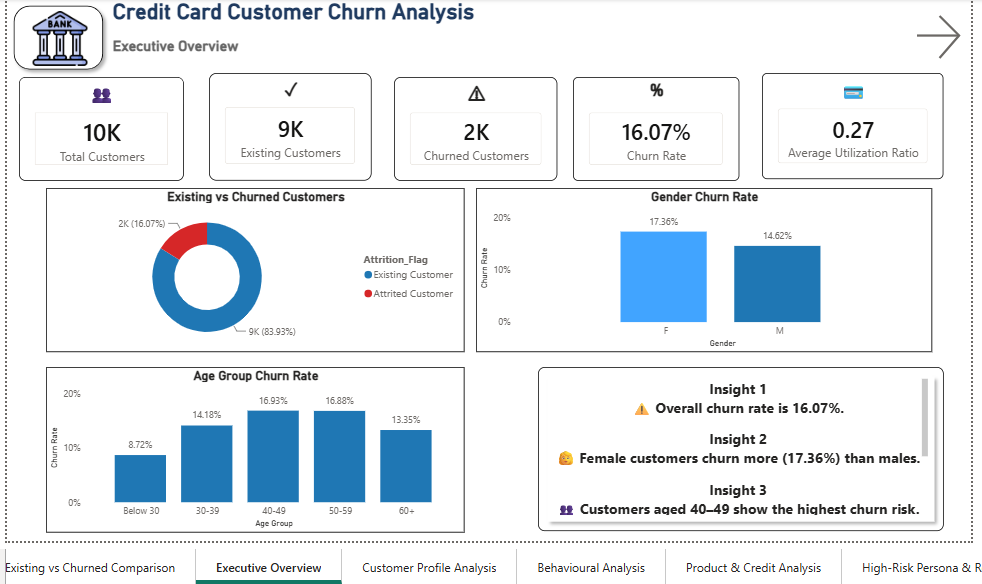

What the dashboard file says about the page in this screenshot:
{"tool":"powerbi","page":{"name":"Executive Overview","canvas":[1280,720],"ordinal":6},"visuals":[{"type":"shape","box":[0,0,136.7,102.5],"z":0},{"type":"image","box":[15.8,15.8,109.2,72.5],"z":1000},{"type":"textbox","title":"Credit Card Customer Churn Analysis","box":[136.1,0,806.3,36.6],"z":2000},{"type":"textbox","title":"Executive Overview","box":[134.9,50.8,390.5,25.4],"z":3000},{"type":"cardVisual","title":"✓","fields":{"Data":["BankChurners.Existing Customers"]},"box":[268.3,98.4,215.9,142.9],"z":4000},{"type":"cardVisual","title":"⚠","fields":{"Data":["BankChurners.Churned Customers"]},"box":[514.3,103.2,217.5,138.1],"z":5000},{"type":"cardVisual","title":"%","fields":{"Data":["BankChurners.Churn Rate"]},"box":[752.4,103.2,220.6,138.1],"z":6000},{"type":"cardVisual","title":"💳","fields":{"Data":["Avg(BankChurners.Avg_Utilization_Ratio)"]},"box":[1003.2,98.4,241.3,141.3],"z":7000},{"type":"cardVisual","title":"👥","fields":{"Data":["BankChurners.Total Customers"]},"box":[15.9,103.2,219,138.1],"z":8000},{"type":"donutChart","title":"Existing vs Churned Customers","fields":{"Category":["BankChurners.Attrition_Flag"],"Y":["BankChurners.Total Customers"]},"box":[51.5,251.5,555.9,218.1],"z":9000},{"type":"clusteredColumnChart","title":"Gender Churn Rate","fields":{"Category":["BankChurners.Gender"],"Y":["BankChurners.Churn Rate"]},"box":[622.6,251.5,605.9,218.1],"z":10000},{"type":"clusteredColumnChart","title":"Age Group Churn Rate","fields":{"Y":["BankChurners.Churn Rate"],"Category":["BankChurners.Age Group"]},"box":[51.5,489.3,555.9,219.6],"z":11000},{"type":"shape","box":[705.9,489.3,539.3,218.1],"z":12000},{"type":"textbox","box":[721,499.9,507.5,190.9],"z":13000},{"type":"actionButton","box":[1200.7,15,79.3,71.9],"z":14000}]}

Visuals, with their boxes in screenshot pixels (x1, y1, x2, y2):
shape: 3:0:106:72
image: 15:7:97:62
"Credit Card Customer Churn Analysis" textbox: 106:0:716:23
"Executive Overview" textbox: 105:33:400:53
"✓" cardVisual: 206:69:369:177
"⚠" cardVisual: 392:73:556:177
"%" cardVisual: 572:73:739:177
"💳" cardVisual: 762:69:944:176
"👥" cardVisual: 15:73:180:177
"Existing vs Churned Customers" donutChart: 42:185:462:350
"Gender Churn Rate" clusteredColumnChart: 474:185:932:350
"Age Group Churn Rate" clusteredColumnChart: 42:365:462:531
shape: 537:365:945:530
textbox: 548:373:932:518
actionButton: 911:6:971:61
